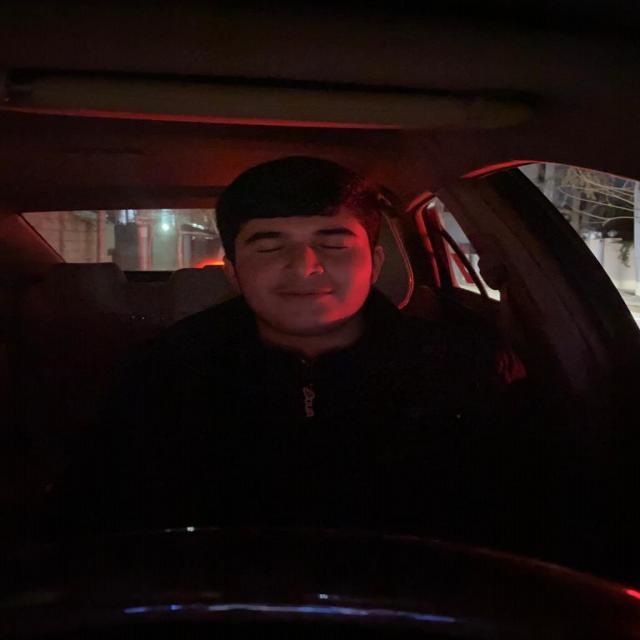drowsy: (217, 168, 387, 332)
